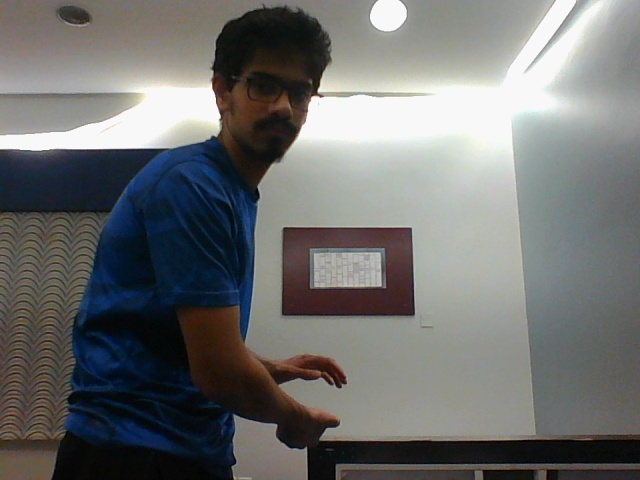charge: (271, 345, 348, 449)
